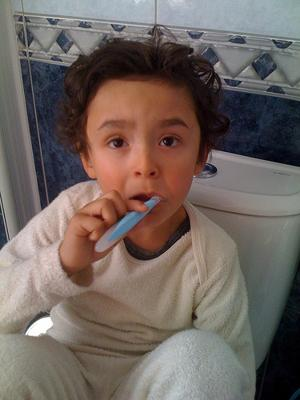person: (2, 42, 257, 400)
